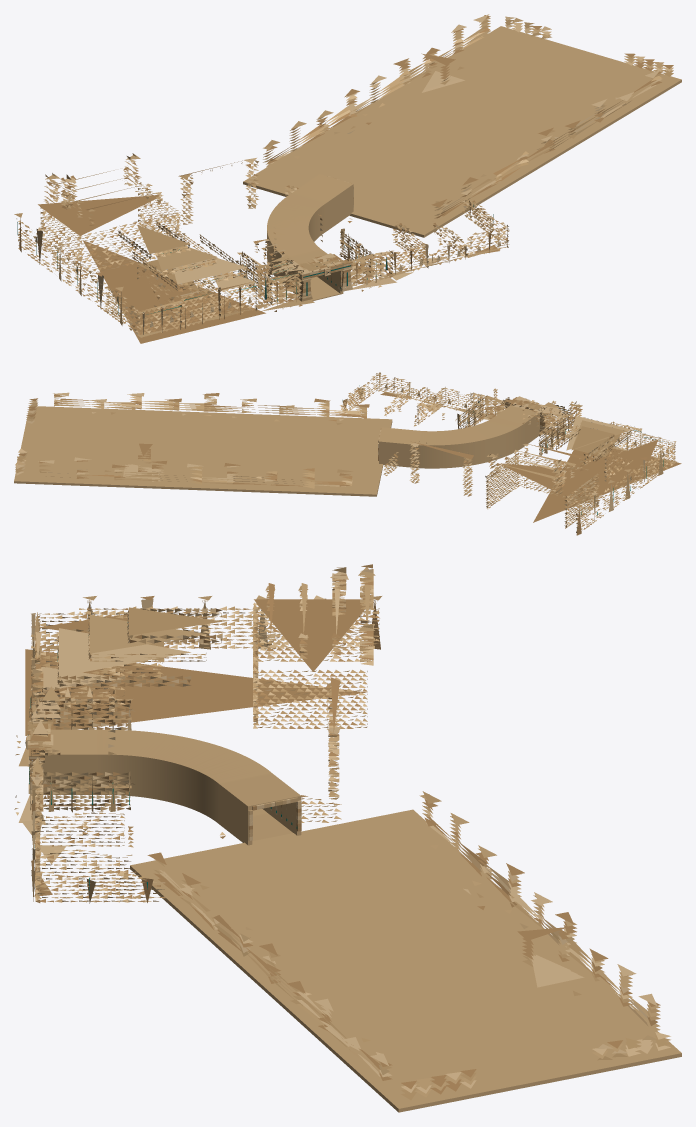
File: Ruins_Field_Alpha_Light.obj
The picture shows the model from 3 angles, top to bottom: view 1: azimuth 30°, elevation 25°; view 2: azimuth 150°, elevation 25°; view 3: azimuth 270°, elevation 25°; orthographic projection. The views are drawn at different scales.
Visible parts, largest first — view 1: Ruins_Field_Light; view 2: Ruins_Field_Light; view 3: Ruins_Field_Light.
Part boxes in pixels (x1,y1,x2,y2): Ruins_Field_Light: (14,14,681,343); Ruins_Field_Light: (14,372,681,535); Ruins_Field_Light: (14,564,681,1112).
Bounding box in the file's own units: 1606 × 182 × 975.
